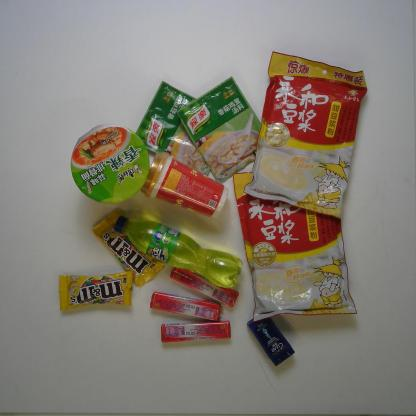Candy: (169, 263, 241, 309), (149, 291, 224, 322), (160, 320, 232, 343)
Chocolate: (92, 208, 165, 288), (58, 270, 134, 312)
Drink: (113, 214, 243, 290)
Instant Drink: (244, 51, 368, 220), (232, 171, 358, 323), (135, 151, 230, 219)
Instant Noodles: (70, 123, 150, 203)
Personal Hygiene: (246, 312, 295, 368)
Seasoner: (176, 76, 268, 184), (134, 80, 223, 176)
